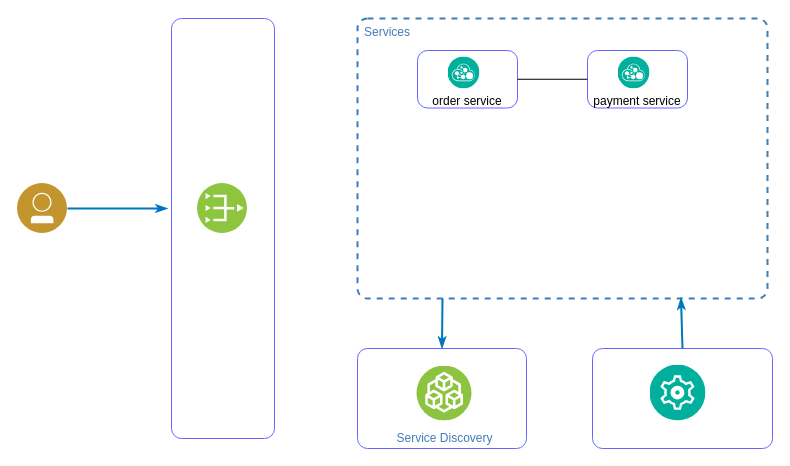
Some shapes in this 790 by 466 pixel diagram are drawn without their labels. The centre of each missing label's shape, as x and y in pixels:
Config Server: pixel 678 392
GATEWAY: pixel 222 208
